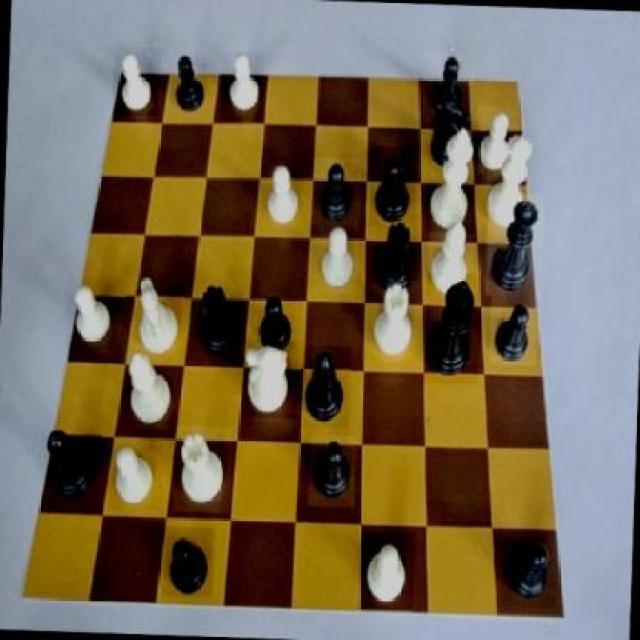bishop: (37, 422, 103, 506), (297, 344, 351, 428)
black-bishop: (486, 192, 546, 297)
black-king: (423, 84, 476, 174), (368, 144, 417, 228)
black-knight: (501, 526, 557, 609), (162, 526, 216, 599), (308, 434, 357, 508), (311, 157, 361, 227), (164, 48, 212, 120), (423, 52, 476, 116), (491, 294, 538, 366), (254, 289, 297, 356)
black-pawn: (423, 272, 482, 385)
black-queen: (190, 274, 244, 361), (374, 212, 421, 296)
black-rook: (117, 343, 179, 431), (428, 212, 477, 303)
white-bishop: (426, 118, 480, 234)
white-king: (124, 272, 186, 360), (242, 340, 298, 420)
white-knight: (357, 531, 415, 613), (108, 438, 164, 511), (64, 278, 118, 351), (258, 154, 306, 234), (312, 223, 358, 297), (112, 46, 160, 116), (220, 51, 264, 120), (476, 106, 518, 176)
white-pawn: (482, 129, 538, 237)
white-queen: (172, 426, 232, 514), (369, 280, 420, 363)
